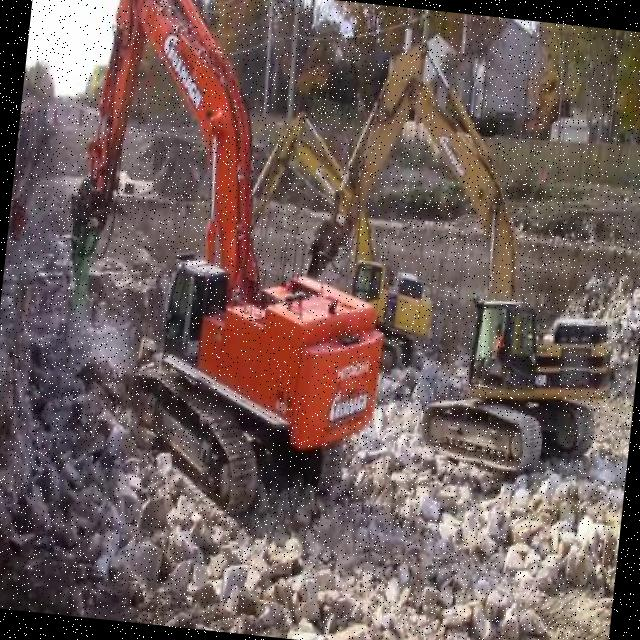Excavator: (30, 0, 425, 526), (289, 10, 639, 482), (232, 102, 452, 368)
